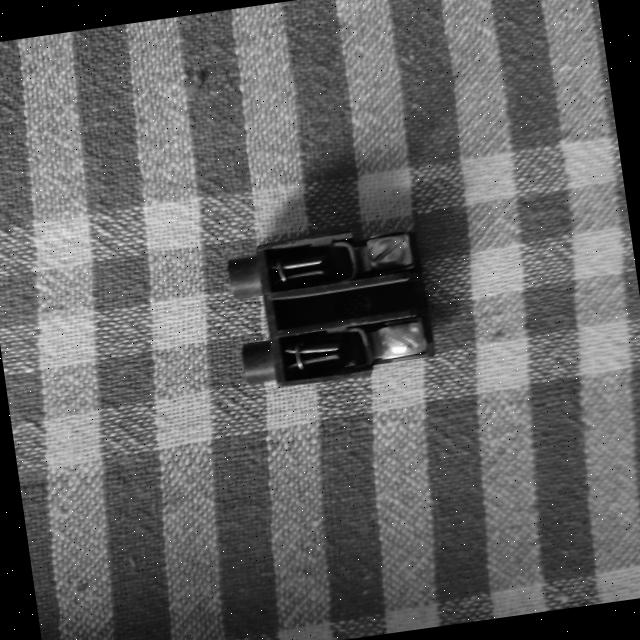Slotted: (366, 234, 412, 268), (379, 324, 425, 358)
